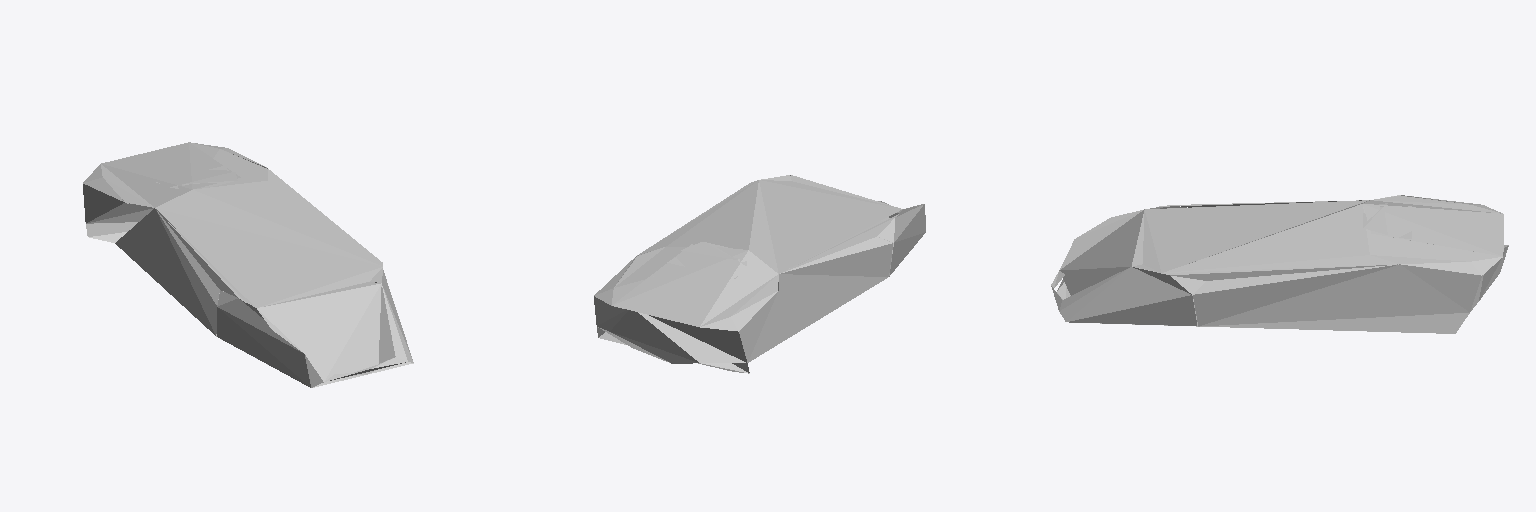
3 renders of one model, left to right at view 1: azimuth 30°, elevation 25°; view 2: azimuth 150°, elevation 25°; view 3: azimuth 270°, elevation 25°, orthographic.
Parts seen in each view (by area): view 1: SV.obj; view 2: SV.obj; view 3: SV.obj.
Boxes of the visible parts, x1=… form: SV.obj: x1=83, y1=142, x2=413, y2=387; SV.obj: x1=594, y1=175, x2=925, y2=373; SV.obj: x1=1051, y1=195, x2=1508, y2=333.
Size of the model in its own units: 1.95 by 0.9357 by 4.68.